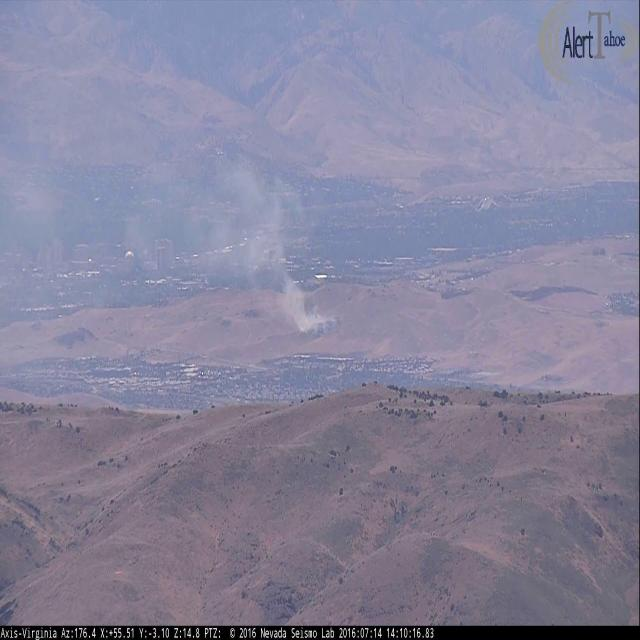smoke: (121, 150, 334, 338), (0, 40, 119, 310)
